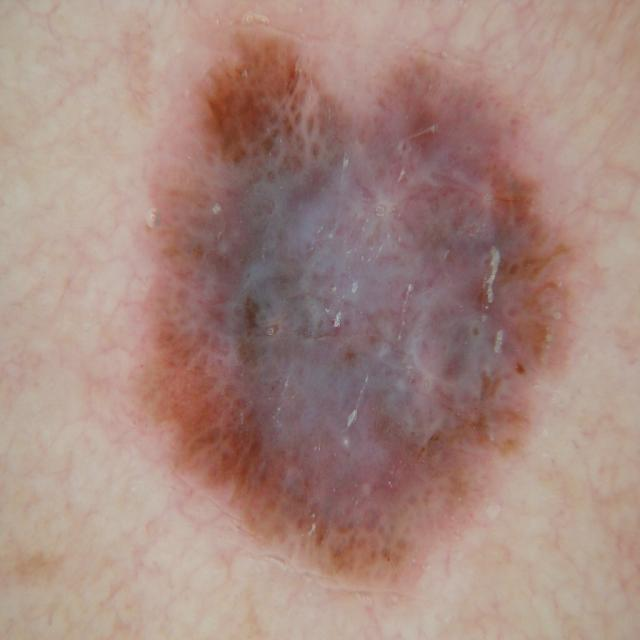Skin-Cancer Melanoma: (134, 8, 604, 640)
